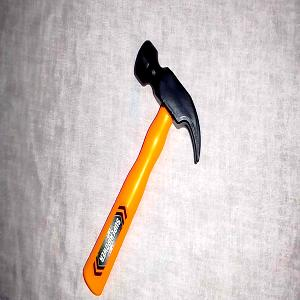martelo: (83, 40, 201, 296)
